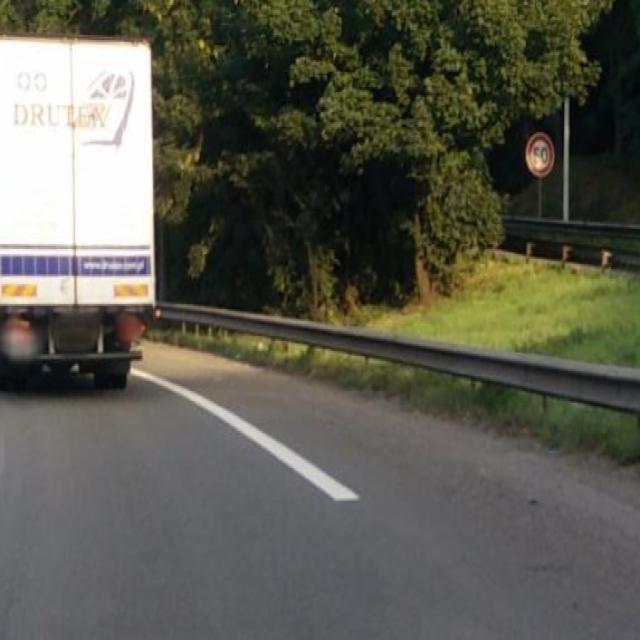speed_50: (528, 135, 554, 175)
